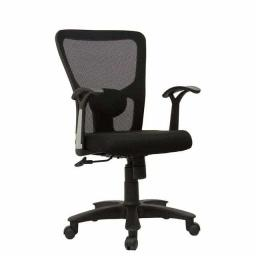Chair: (55, 29, 200, 248)
